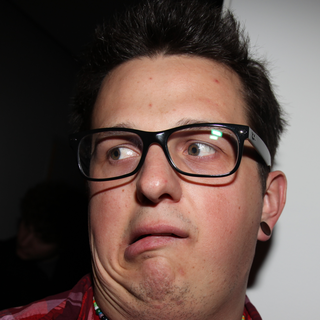eye: (180, 134, 223, 158), (103, 143, 141, 164)
